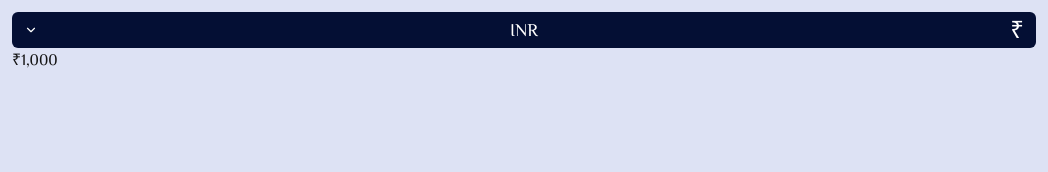
Test: currency selection › still renders and switches when browser storage is blocked
Select "EUR" in the dropdown named "Select currency". click: (524, 30)
box: [12,12,1036,48]
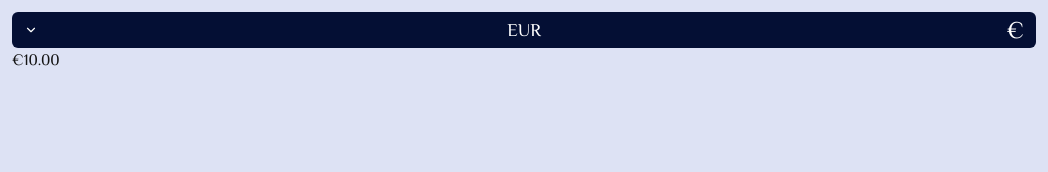
Now the text with test id "price" shows "10.00", box [12,51,60,69]
